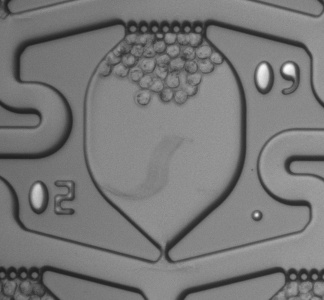AptNum: (249, 56, 311, 101)
Marker: (242, 203, 272, 230)
StNum: (23, 176, 85, 226)
Trap: (141, 252, 185, 294)
